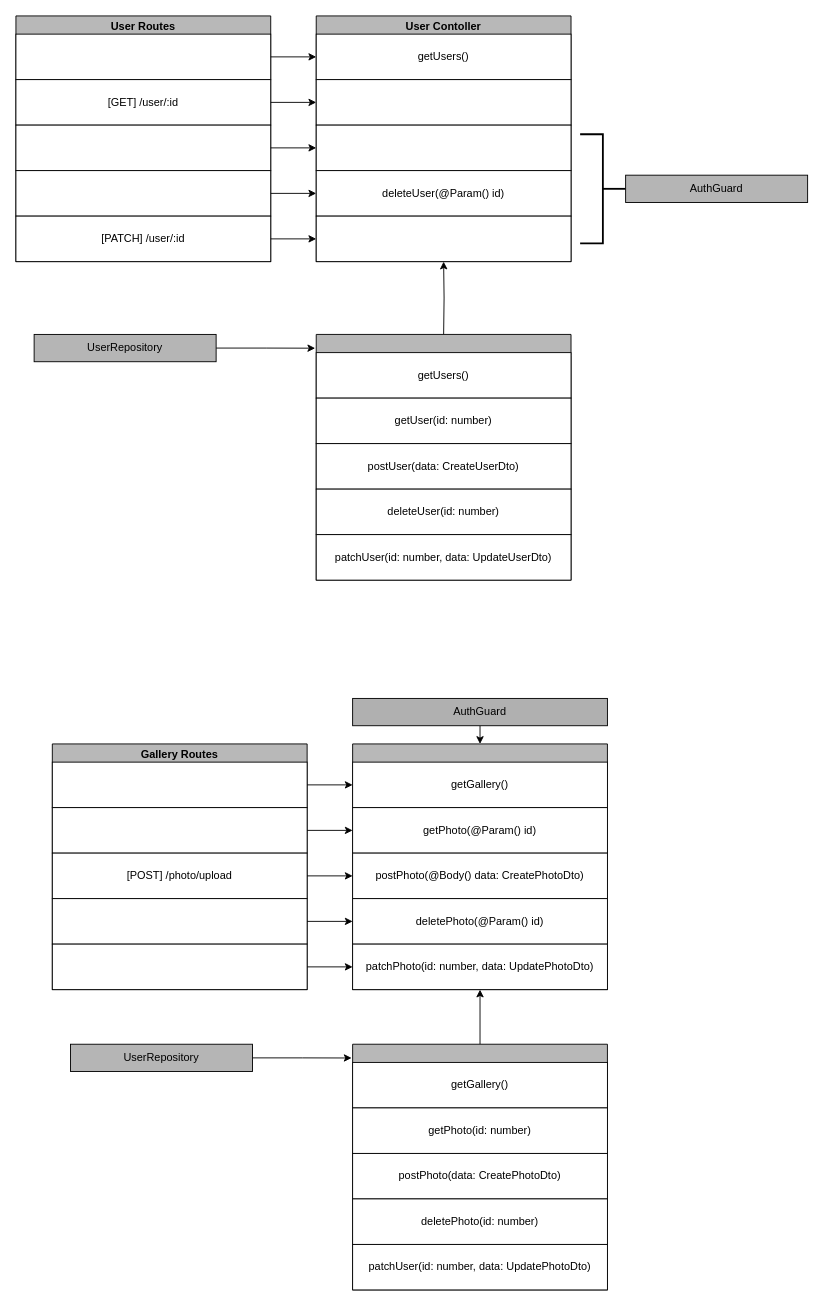
Some shapes in this 824 by 1306 pixel diagram are drawn without their labels. Each missing label, with the box of its shape:
[DELETE] /photo/:id: (51, 898, 307, 944)
[DELETE] /user/:id: (15, 170, 271, 216)
[GET] /gallery: (51, 761, 307, 808)
[GET] /photo/:id: (51, 807, 307, 853)
[GET] /user: (15, 33, 271, 80)
[PATCH] /photo/:id: (51, 943, 307, 990)
[POST] /user: (15, 124, 271, 171)
Gallery Contoller: (352, 743, 607, 990)
Gallery Service: (352, 1043, 607, 1290)
getUser(@Param() id): (315, 79, 571, 125)
patchUser(@Param() id, @Body() data: UpdateUserDto): (315, 215, 571, 262)
postUser(@Body() data: CreateUserDto): (315, 124, 571, 171)
User Service: (315, 334, 571, 580)
